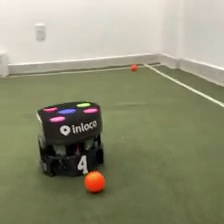ball: (82, 168, 106, 195), (130, 62, 138, 71)
robot: (33, 99, 106, 179)
